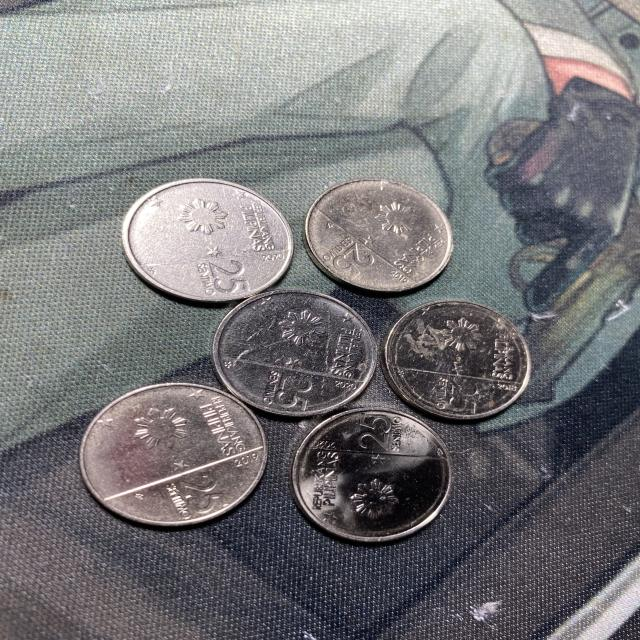25Cent_New_Front: (174, 470, 227, 512), (273, 372, 317, 412), (203, 258, 254, 292), (351, 410, 393, 451), (332, 242, 376, 277), (444, 377, 484, 413)
